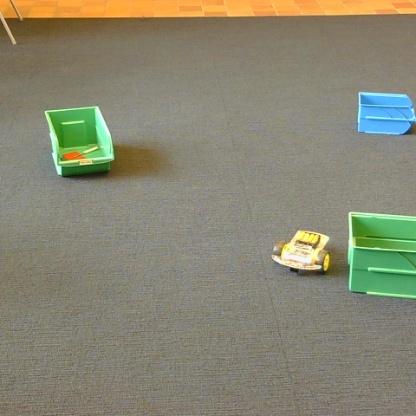robot: (273, 230, 330, 273)
